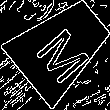M_NE: (28, 14, 94, 81)
